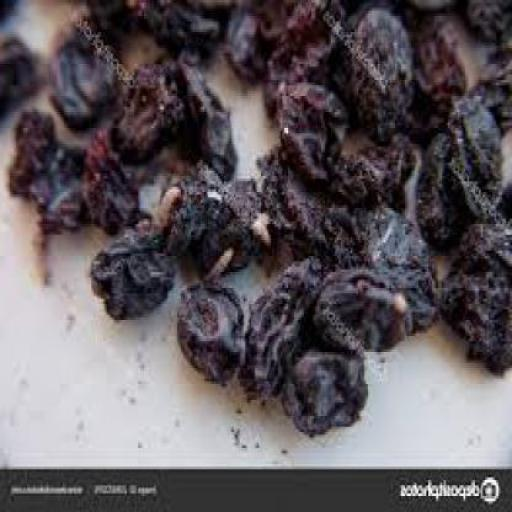biodegradable: (240, 251, 330, 403), (91, 179, 187, 315), (332, 199, 438, 320), (442, 218, 511, 372), (175, 240, 247, 384), (261, 144, 348, 256), (264, 0, 348, 114), (309, 263, 413, 352), (352, 6, 418, 138), (184, 155, 254, 275), (280, 346, 370, 432), (276, 77, 350, 181), (113, 54, 185, 160), (48, 24, 122, 125), (454, 95, 506, 216), (416, 128, 466, 249), (186, 56, 240, 168), (333, 134, 419, 202), (84, 128, 140, 226), (128, 0, 236, 48), (228, 0, 298, 74), (415, 11, 469, 99), (222, 173, 273, 259), (31, 142, 83, 224), (2, 34, 51, 117), (12, 104, 56, 195), (479, 40, 511, 126), (475, 168, 511, 238), (74, 0, 128, 34), (415, 88, 449, 142), (467, 0, 510, 39), (2, 0, 25, 30)
